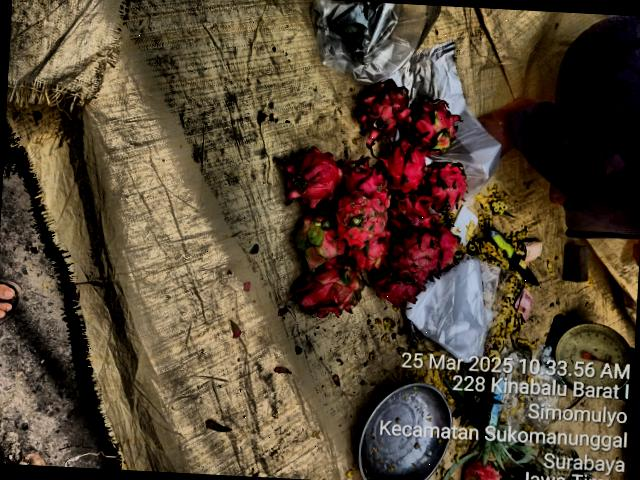buah-naga-belum-matang: (291, 212, 345, 266), (414, 96, 461, 152)
buah-naga-matang: (294, 255, 366, 322), (274, 143, 337, 203), (358, 76, 416, 141), (334, 190, 391, 248), (370, 268, 431, 319), (378, 136, 434, 190), (392, 226, 443, 284), (420, 160, 468, 213), (390, 188, 438, 230), (336, 153, 381, 190), (348, 240, 392, 269), (438, 226, 466, 270)
